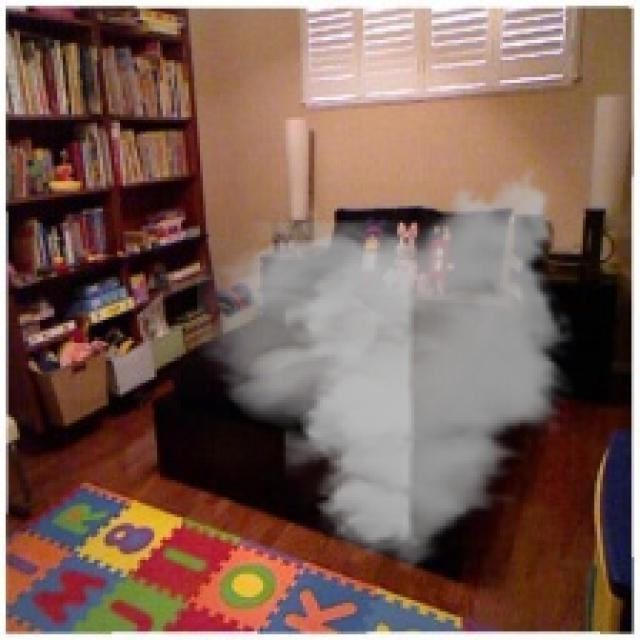Smoke: (197, 157, 577, 580)
